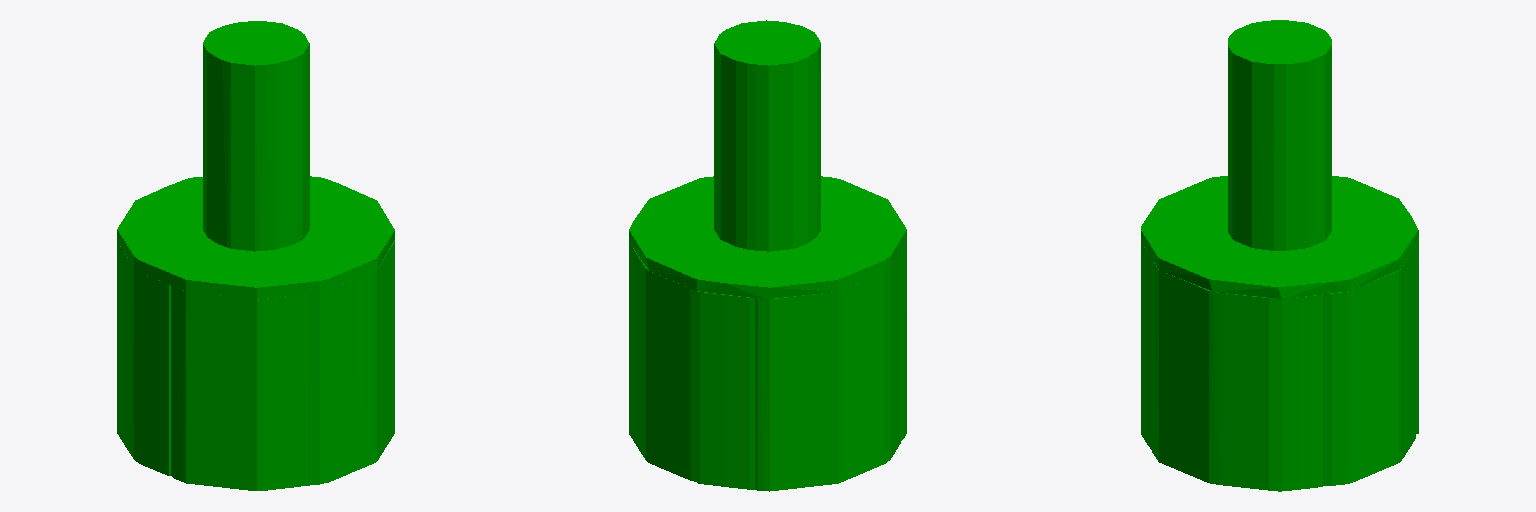
robot.urdf — cylinder2:
<?xml version="0.0" ?>
<robot name="cylinder2">
  <link name="Link">
  <contact>
      <lateral_friction value="1"/>
  </contact>
    <inertial>
      <origin rpy="0 0 0" xyz="0 0 0"/>
       <mass value="1"/>
       <inertia ixx="1e-2" ixy="0" ixz="0" iyy="1e-2" iyz="0" izz="1e-2"/>
    </inertial>
    <visual>
      <origin rpy="0 0 0" xyz="0 0 0"/>
      <geometry>
		<mesh filename="cylinder2.obj" scale="1 1 1"/>
      </geometry>
       <material name="white">
        <color rgba="0.0 0.7 0.0 1"/>
      </material>
    </visual>
    <collision>
      <origin rpy="0 0 0" xyz="0 0 0"/>
      <geometry>
	 	<mesh filename="cylinder2.obj" scale="1 1 1"/>
      </geometry>
    </collision>
  </link>
</robot>

--- Facts derived from the render (not from the file) ---
The picture shows the robot from 3 angles, left to right: view 1: azimuth 30°, elevation 25°; view 2: azimuth 150°, elevation 25°; view 3: azimuth 270°, elevation 25°; orthographic projection.
Model cylinder2 with 1 links and 0 joints (none), rooted at Link, posed all joints at 0.
Links seen in each view (by area): view 1: Link; view 2: Link; view 3: Link.
Link boxes in pixels (x1,y1,x2,y2): Link: [117, 21, 394, 490]; Link: [629, 20, 906, 491]; Link: [1141, 20, 1418, 491].
Size in the robot's own frame: 0.0808 by 0.0808 by 0.1256 metres.
Meshes: 1 distinct files referenced, 1 mesh visuals loaded (1 OBJ).